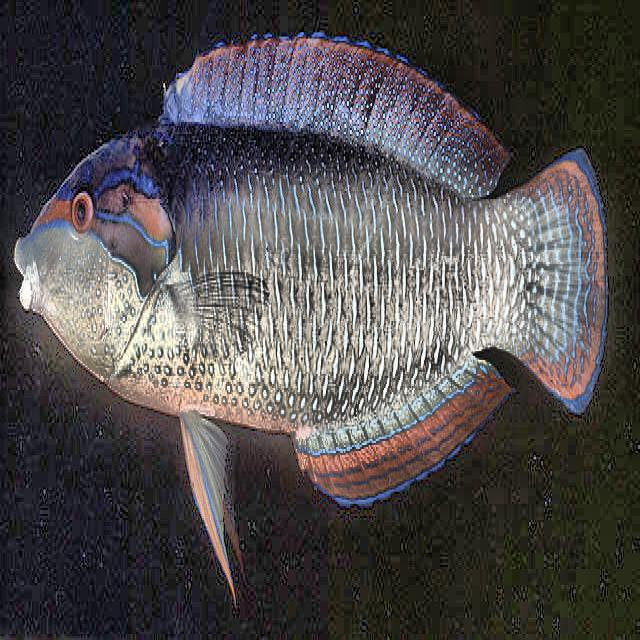fish: (13, 31, 610, 610)
